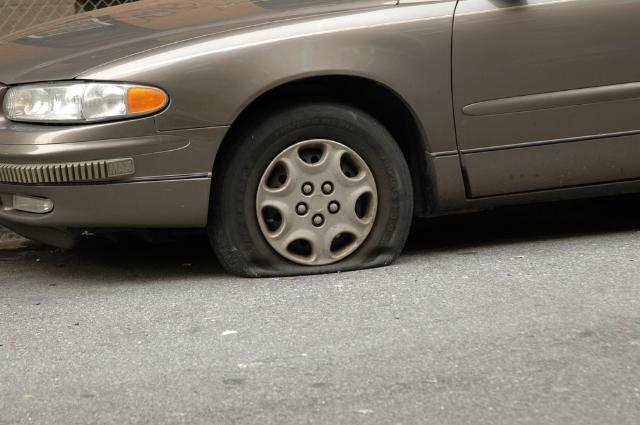tire flat: (207, 105, 413, 278)
